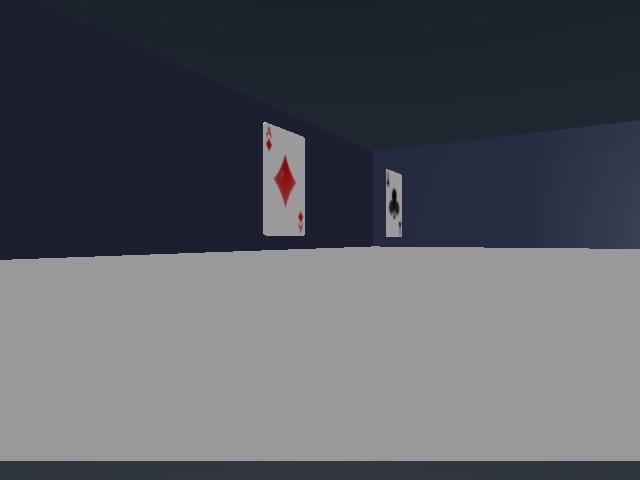club: (385, 169, 401, 236)
diamond: (263, 123, 305, 235)
